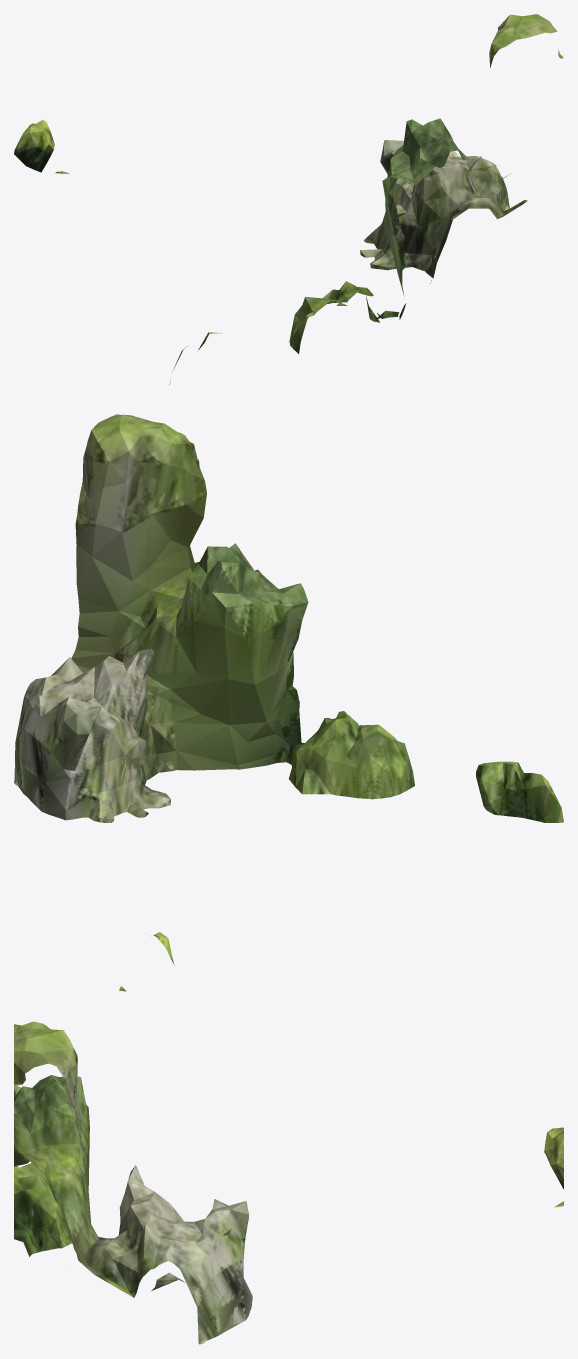
3 views of the same model, one above another, from view 1: azimuth 30°, elevation 25°; view 2: azimuth 150°, elevation 25°; view 3: azimuth 270°, elevation 25° (orthographic). The views are drawn at different scales.
Bounding box in the file's own units: 24.1 × 15.62 × 26.11.
Materials: 1 (1 with a texture image).
